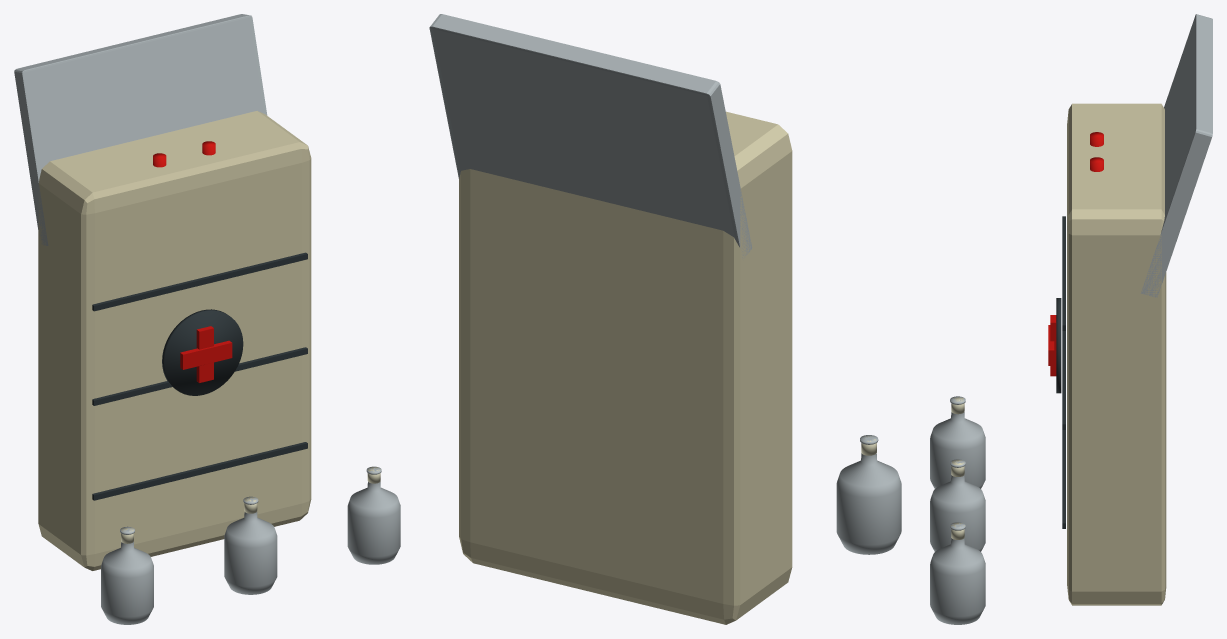
The picture shows the model from 3 angles, left to right: view 1: azimuth 30°, elevation 25°; view 2: azimuth 150°, elevation 25°; view 3: azimuth 270°, elevation 25°; orthographic projection. The views are drawn at different scales.
Visible parts, largest first — view 1: TI069 / upright medical case, TI069 / raised case cover, TI069 / round medical badge, TI069 / bottle body.002, TI069 / bottle body.001, TI069 / bottle body, TI069 / case seam, TI069 / case seam.002, TI069 / case seam.001, TI069 / medical cross arm, TI069 / medical cross upright; view 2: TI069 / upright medical case, TI069 / raised case cover, TI069 / bottle body; view 3: TI069 / upright medical case, TI069 / raised case cover, TI069 / bottle body.002, TI069 / bottle body, TI069 / bottle body.001, TI069 / round medical badge, TI069 / case seam.002.
Part boxes in pixels (x1,y1,x2,y2): TI069 / upright medical case: (38,111,311,570); TI069 / raised case cover: (14,14,267,245); TI069 / round medical badge: (162,309,243,395); TI069 / bottle body.002: (347,466,400,564); TI069 / bottle body.001: (224,496,277,594); TI069 / bottle body: (101,526,153,624); TI069 / case seam: (92,442,307,500); TI069 / case seam.002: (92,252,307,311); TI069 / case seam.001: (92,347,307,405); TI069 / medical cross arm: (180,340,232,369); TI069 / medical cross upright: (196,326,213,382); TI069 / upright medical case: (459,111,792,624); TI069 / raised case cover: (429,14,752,258); TI069 / bottle body: (836,435,901,554); TI069 / upright medical case: (1067,103,1166,605); TI069 / raised case cover: (1140,14,1212,297); TI069 / bottle body.002: (930,522,985,624); TI069 / bottle body: (930,396,985,488); TI069 / bottle body.001: (930,459,985,551); TI069 / round medical badge: (1056,298,1061,393); TI069 / case seam.002: (1062,216,1065,330).
Bounding box in the file's own units: 1.78 × 2.67 × 1.42.
